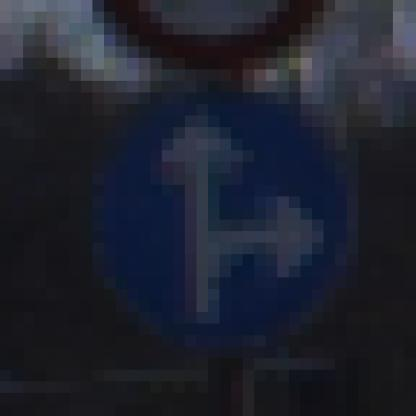Straight or Right: (59, 59, 359, 359)
